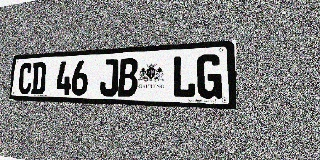4: (56, 61, 72, 95)
6: (71, 60, 89, 96)
B: (118, 58, 138, 97)
C: (18, 63, 33, 94)
D: (31, 62, 47, 95)
G: (196, 54, 222, 99)
J: (99, 59, 119, 96)
L: (172, 55, 196, 98)
